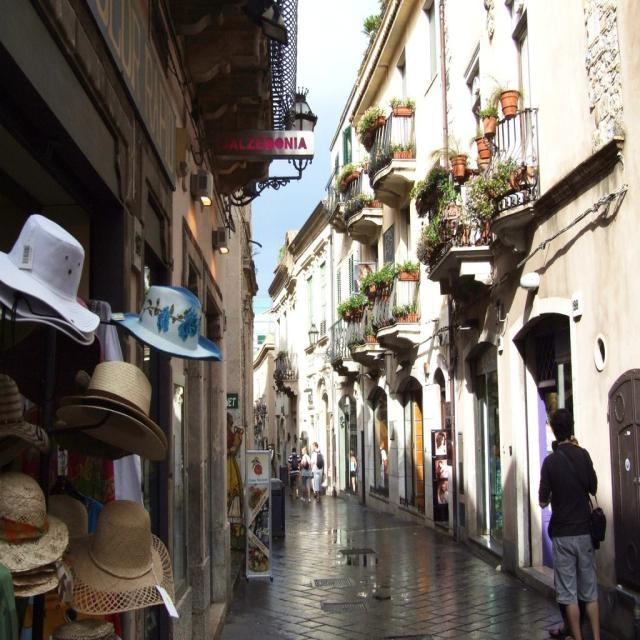door: (510, 310, 582, 592)
